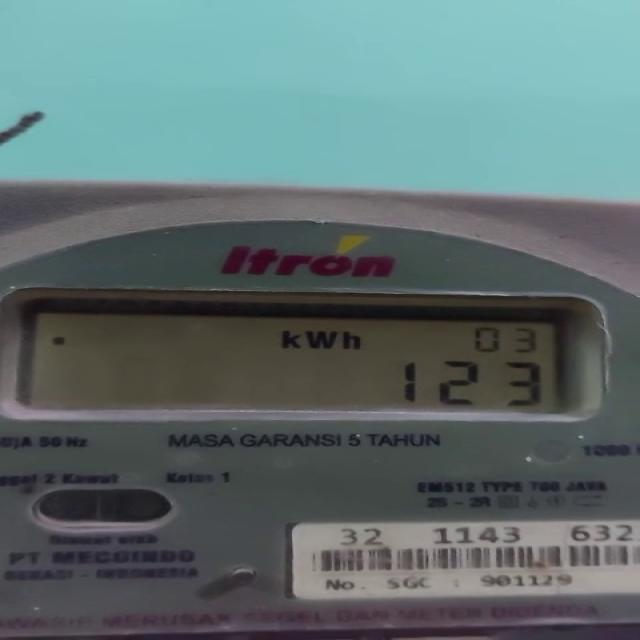LCD: (11, 293, 594, 420)
